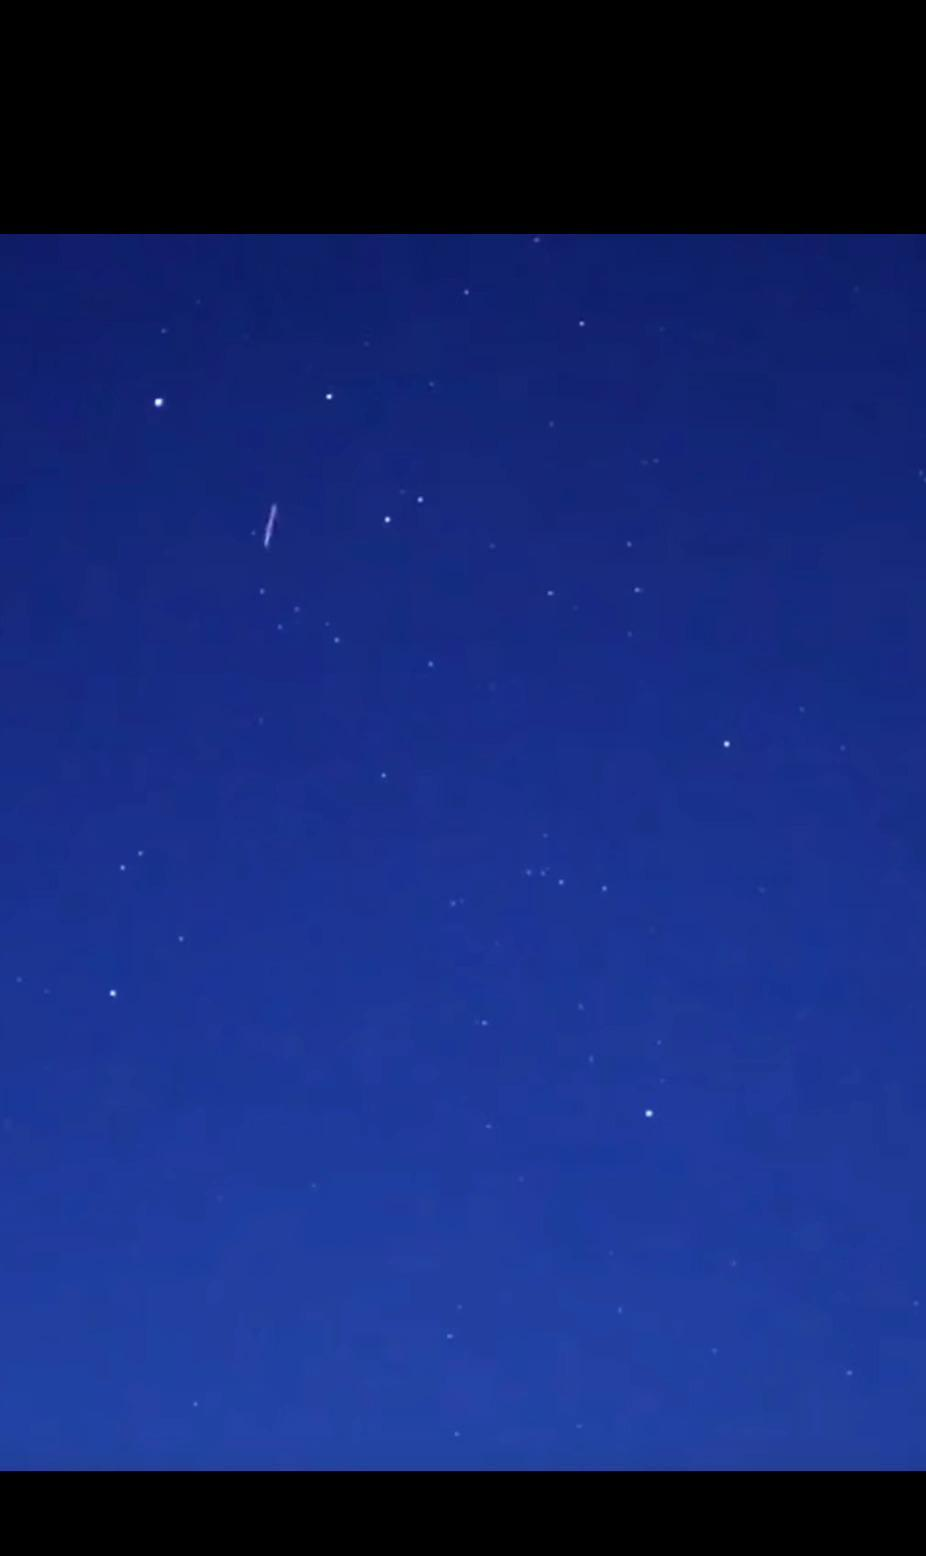meteorite: (241, 484, 297, 563)
